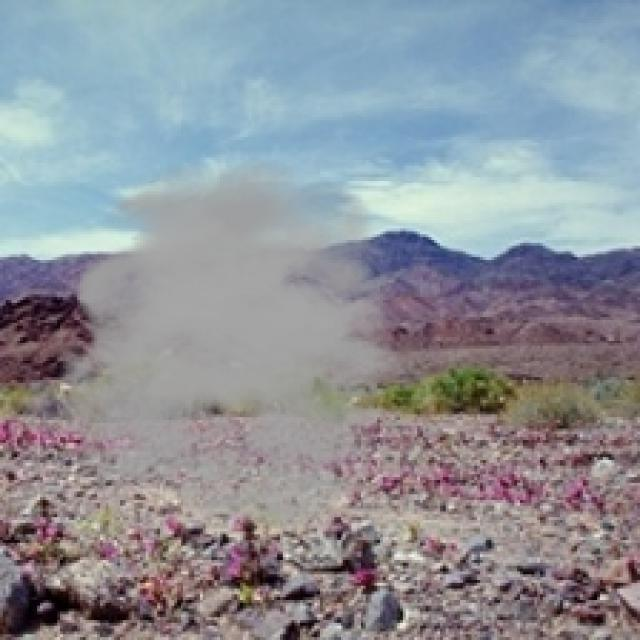Smoke: (40, 159, 443, 532)
